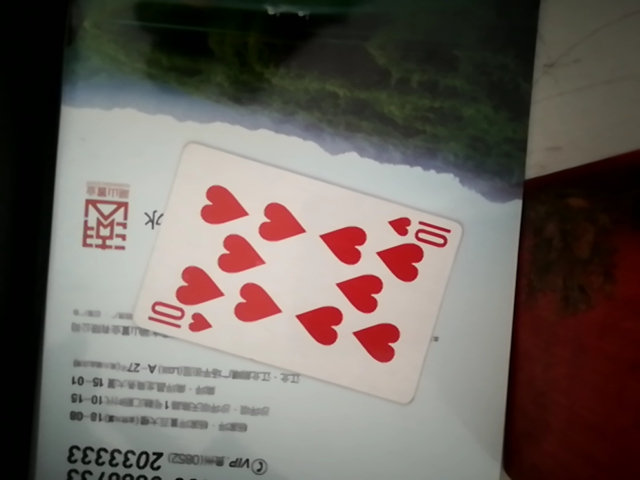hx 10: (147, 142, 458, 401)
